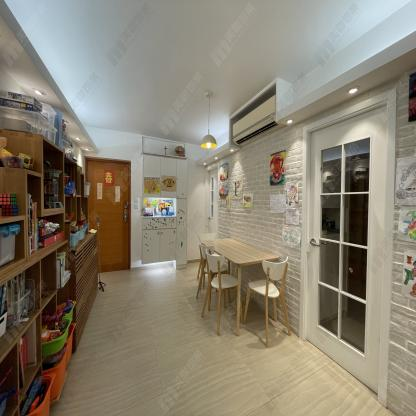AC: (232, 94, 288, 146)
Cupboard: (0, 127, 100, 416), (140, 153, 188, 266)
Dining Table: (200, 238, 280, 266)
